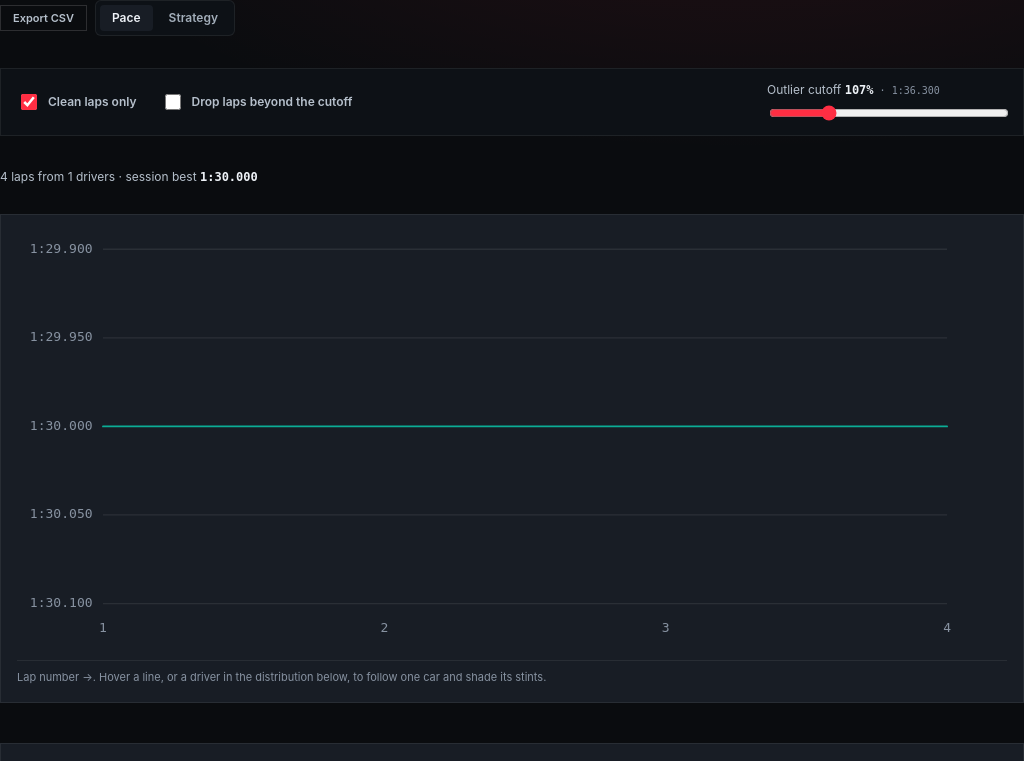
Scenario: RacePaceView strategy tab › reports pit-lane time, and says that is what it is
Check: the text "4 laps from 1 drivers · session best 1:30.000" is shown, box [0,169,258,184]
Click the tab "Strategy".
click(193, 18)  # box [157,5,230,31]
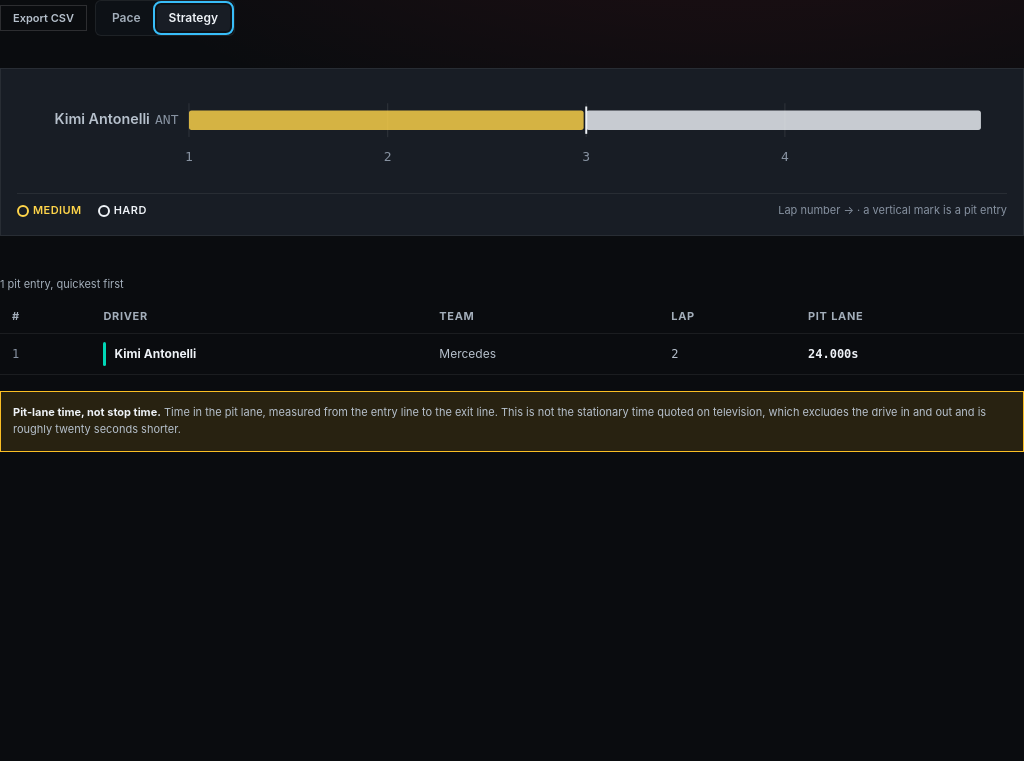
Check: the text "24.000s" is shown, box [796,333,1023,374]
Check: the text "Pit-lane time, not stop time." is shown, box [13,405,161,419]
Check: the text "roughly twenty seconds shorter" is shown, box [13,405,986,436]
